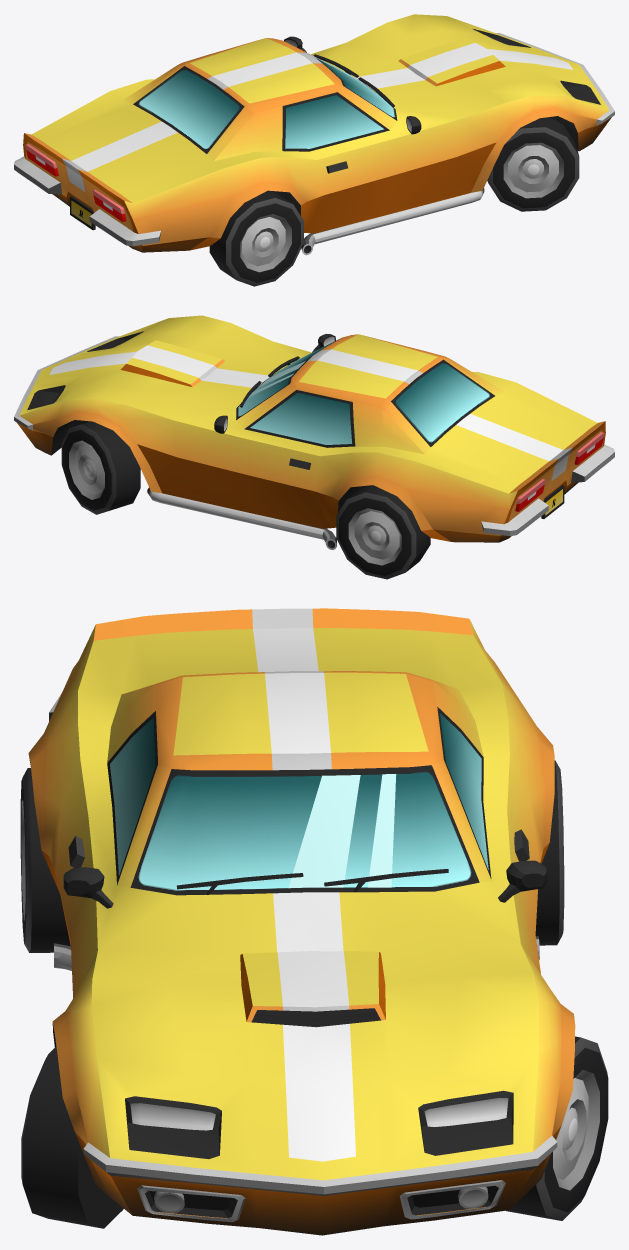
File: Car_048.glb
3 renders of one model, top to bottom at view 1: azimuth 30°, elevation 25°; view 2: azimuth 150°, elevation 25°; view 3: azimuth 270°, elevation 25°, orthographic. The views are drawn at different scales.
Parts seen in each view (by area): view 1: Car_048, wheel_1_Car_048_Wheel_1R, wheel_2_Car_048_Wheel_2R; view 2: Car_048, wheel_3_Car_048_Wheel_3L, wheel_0_Car_048_Wheel_1L; view 3: Car_048, wheel_1_Car_048_Wheel_1R, wheel_0_Car_048_Wheel_1L, wheel_2_Car_048_Wheel_2R, wheel_3_Car_048_Wheel_3L.
Part boxes in pixels (<box>): Car_048: <box>14,14,614,255</box>; wheel_1_Car_048_Wheel_1R: <box>487,117,579,211</box>; wheel_2_Car_048_Wheel_2R: <box>209,190,303,286</box>; Car_048: <box>14,315,614,549</box>; wheel_3_Car_048_Wheel_3L: <box>336,485,430,579</box>; wheel_0_Car_048_Wheel_1L: <box>61,421,140,514</box>; Car_048: <box>28,608,575,1235</box>; wheel_1_Car_048_Wheel_1R: <box>21,1046,123,1228</box>; wheel_0_Car_048_Wheel_1L: <box>506,1036,608,1220</box>; wheel_2_Car_048_Wheel_2R: <box>20,768,70,952</box>; wheel_3_Car_048_Wheel_3L: <box>535,760,564,945</box>.
Bounding box in the file's own units: 5.04 × 1.36 × 2.46.
1 material, 1 textured.
